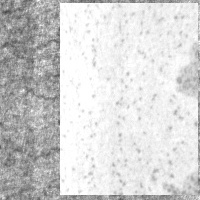crazing: (1, 9, 135, 106), (74, 119, 198, 170), (1, 145, 88, 200)
pitted_surface: (60, 3, 198, 195)
